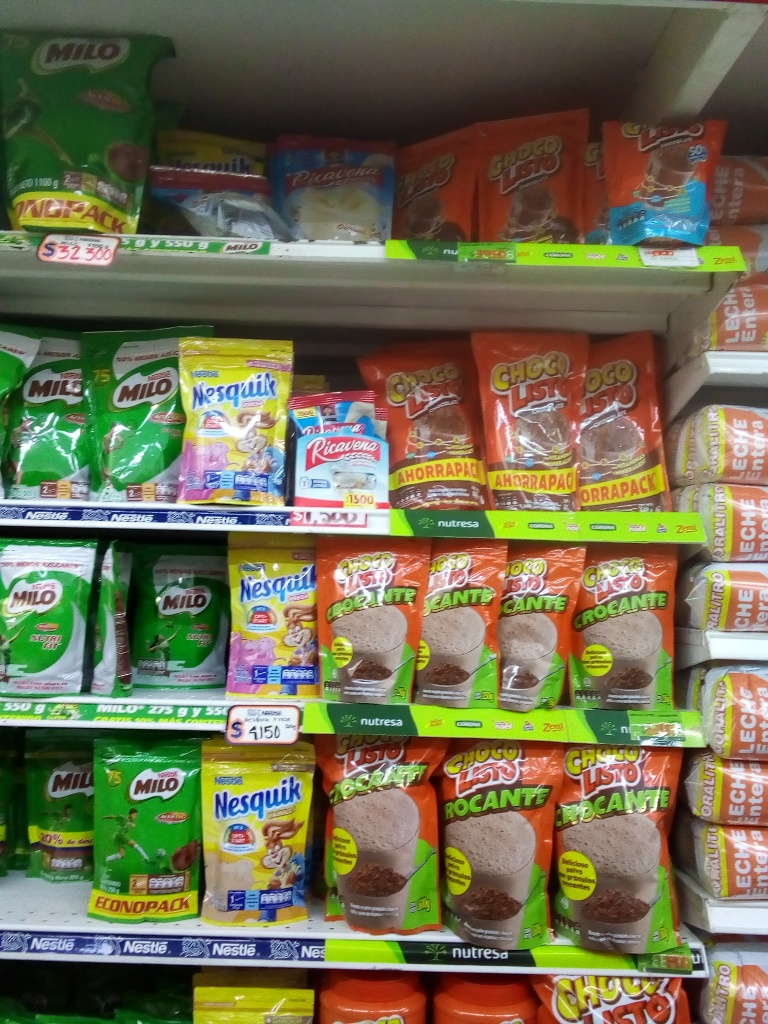COL0170104DYP20000: (509, 121, 605, 334)
COL0170303DYP20000: (132, 725, 262, 950)
COL0170305DYP20000: (13, 431, 117, 636)
